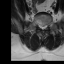CCS_stenosis: (41, 22, 44, 31)
LFS_normal: (46, 22, 48, 29)
LLS_normal: (44, 23, 46, 30)
RFS_normal: (37, 21, 39, 28)
RLS_normal: (39, 23, 41, 30)
